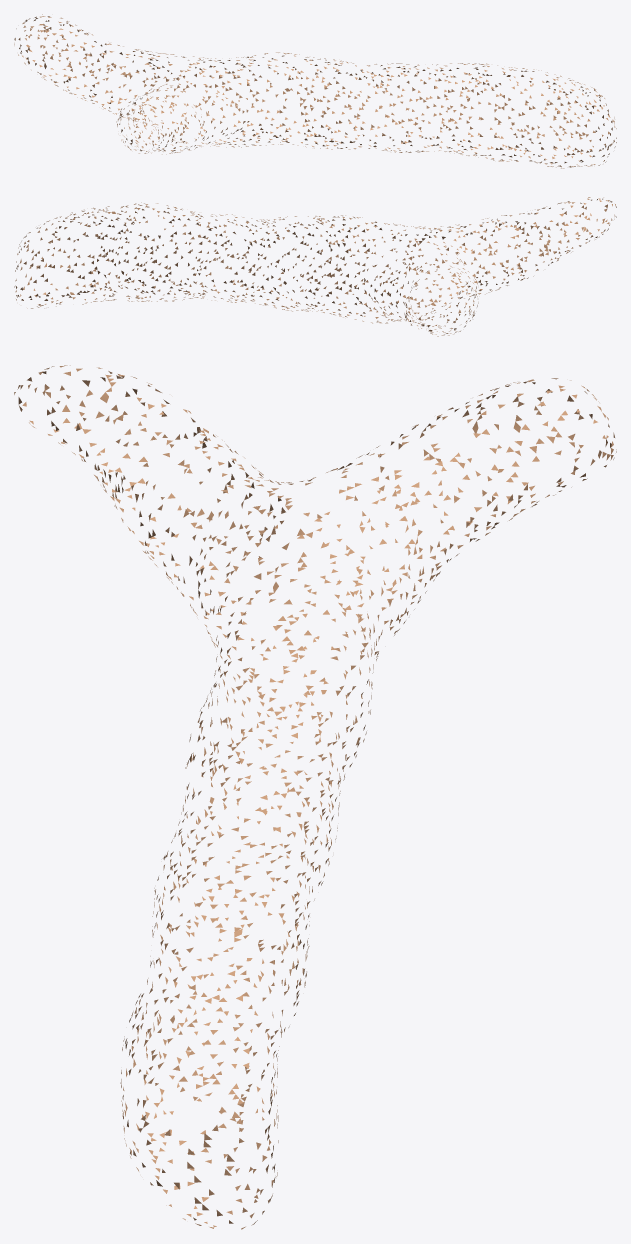
File: morph_005.glb
3 renders of one model, top to bottom at view 1: azimuth 30°, elevation 25°; view 2: azimuth 150°, elevation 25°; view 3: azimuth 270°, elevation 25°, orthographic. The views are drawn at different scales.
Size of the model in its own units: 112 by 40.58 by 56.59.
